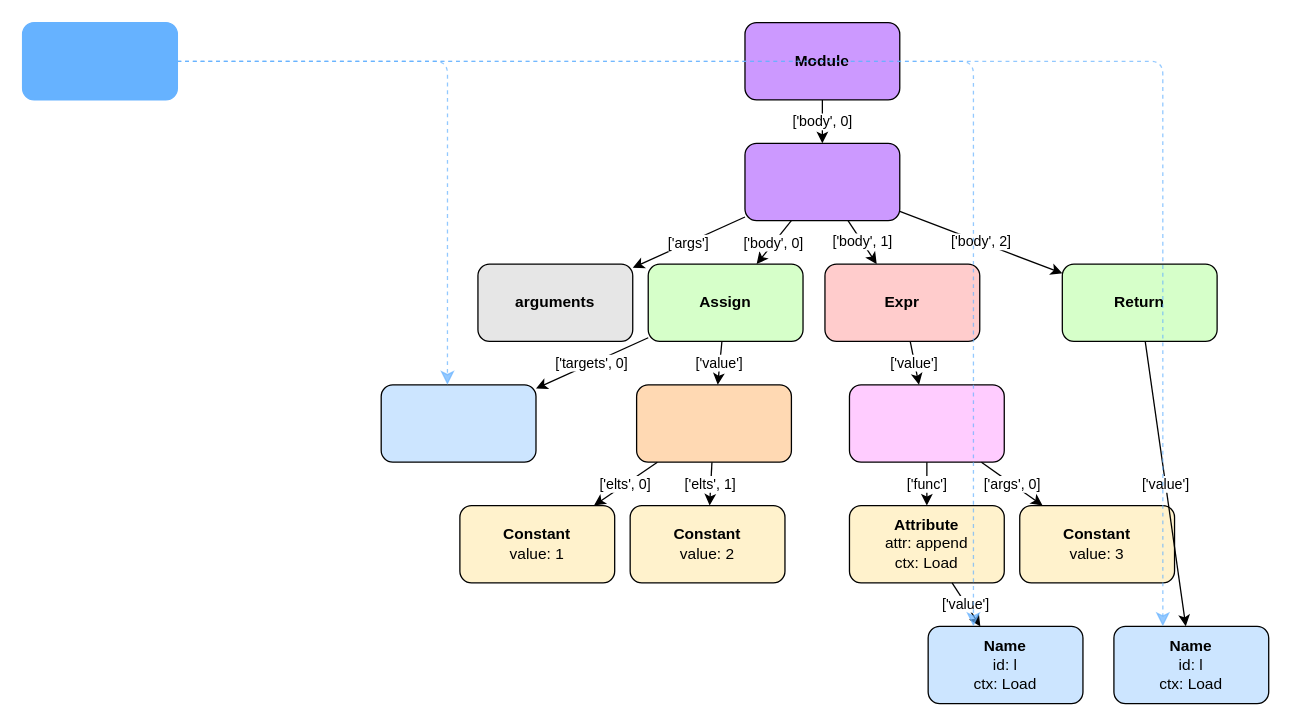
This 1291x726 diagram has some shape labels left out. Each missing label, with the centre of its shape:
"Call" goes at pixel 926 423.
"FunctionDef name: main" goes at pixel 822 181.
"List ctx: Load" goes at pixel 713 423.
"Name id: l ctx: Store" goes at pixel 458 423.
"SyntaxToken name: l scope: main" goes at pixel 99 60.
